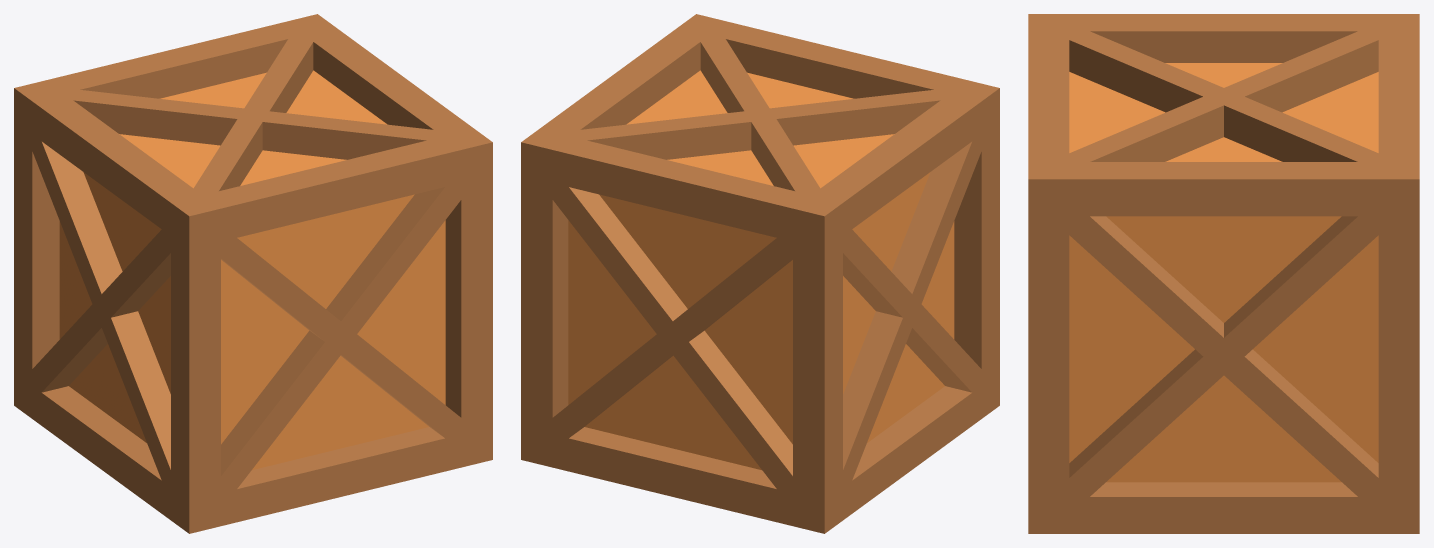
File: Wooden Crate 1 (Breakable).fbx
The picture shows the model from 3 angles, left to right: view 1: azimuth 30°, elevation 25°; view 2: azimuth 150°, elevation 25°; view 3: azimuth 270°, elevation 25°; orthographic projection. The views are drawn at different scales.
Visible parts, largest first — view 1: Wooden Crate 1.002, Wooden Crate 1.005, Wooden Crate 1.001; view 2: Wooden Crate 1.004, Wooden Crate 1.005, Wooden Crate 1.001; view 3: Wooden Crate 1.006, Wooden Crate 1.001.
Part boxes in pixels (x1=…): Wooden Crate 1.002: x1=189, y1=142, x2=492, y2=533; Wooden Crate 1.005: x1=14, y1=88, x2=189, y2=533; Wooden Crate 1.001: x1=14, y1=14, x2=492, y2=216; Wooden Crate 1.004: x1=521, y1=142, x2=824, y2=533; Wooden Crate 1.005: x1=824, y1=88, x2=999, y2=533; Wooden Crate 1.001: x1=521, y1=14, x2=999, y2=216; Wooden Crate 1.006: x1=1028, y1=179, x2=1419, y2=533; Wooden Crate 1.001: x1=1028, y1=14, x2=1419, y2=179.
Bounding box in the file's own units: 2 × 2 × 2.
